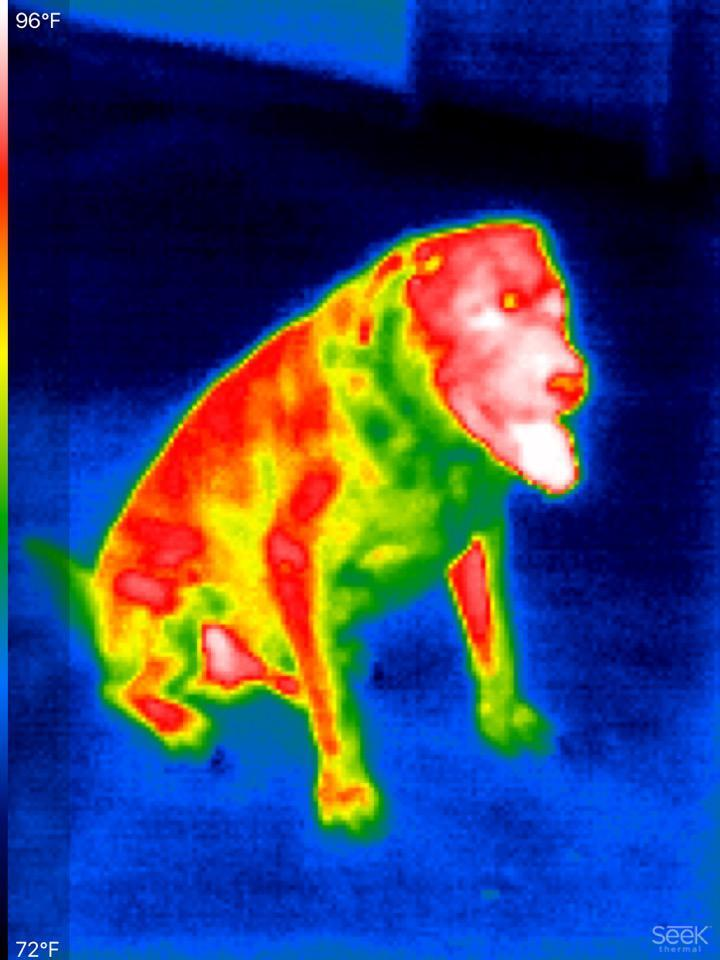dog: (80, 207, 601, 835)
